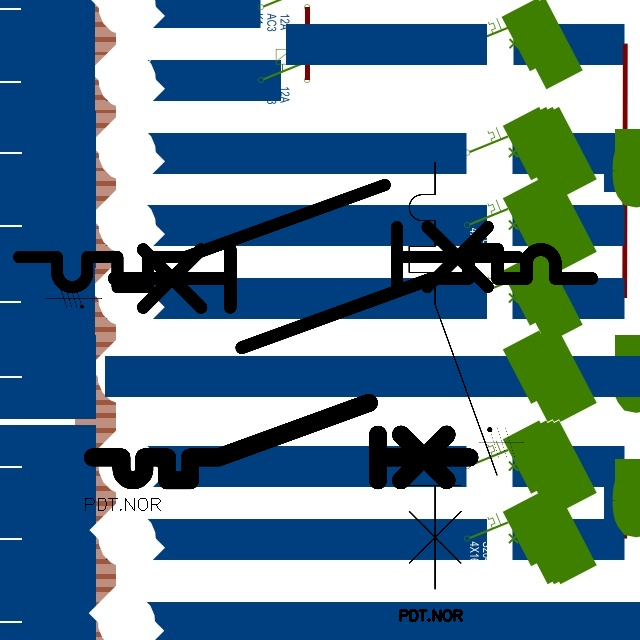interruptor_termomagnetico: (6, 172, 531, 300), (101, 237, 603, 360), (398, 151, 508, 600), (83, 393, 479, 490)
